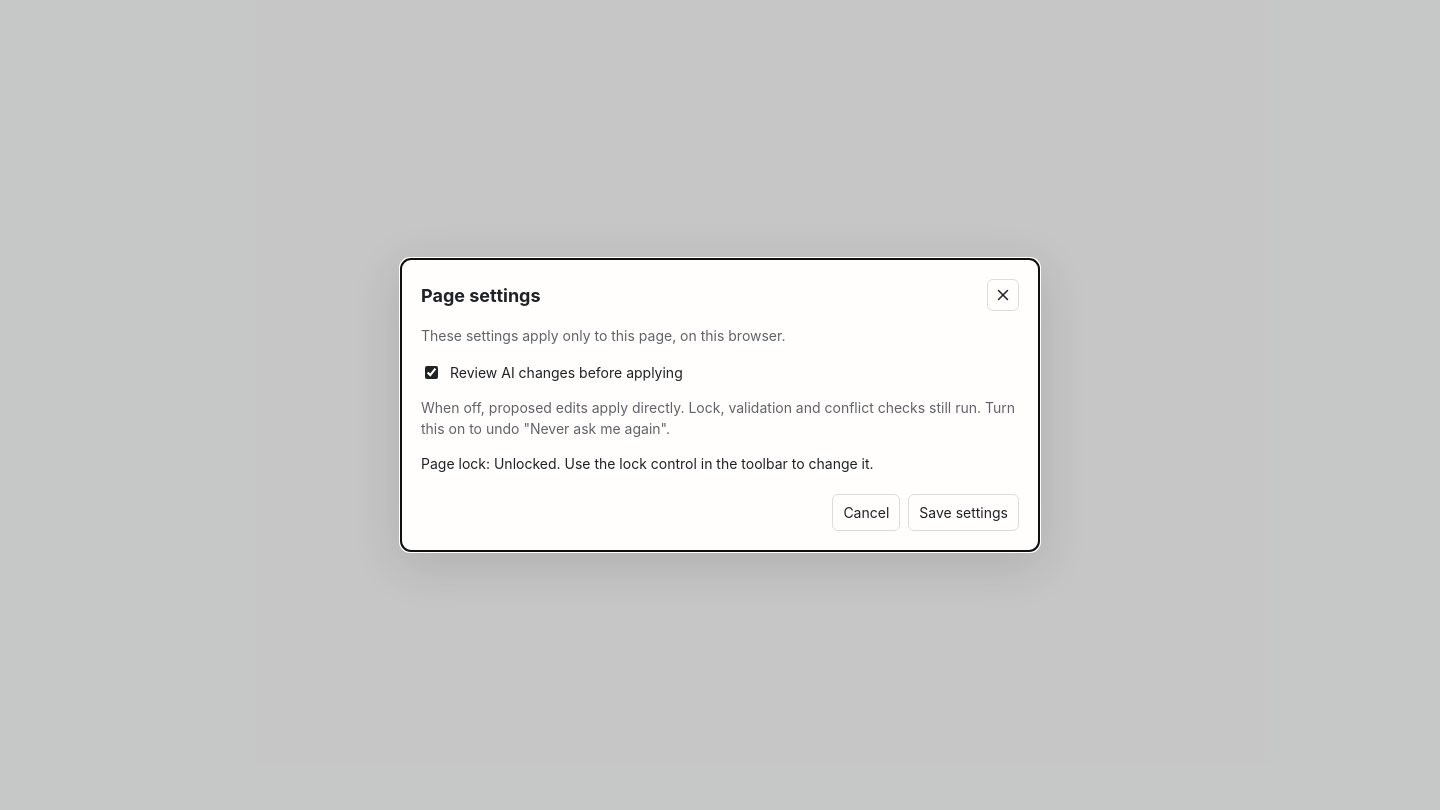
Page Settings modal › shows failed save and leaves modal open
Click the button "Save settings" at coordinates (964, 512), box left=908, top=494, right=1019, bottom=531
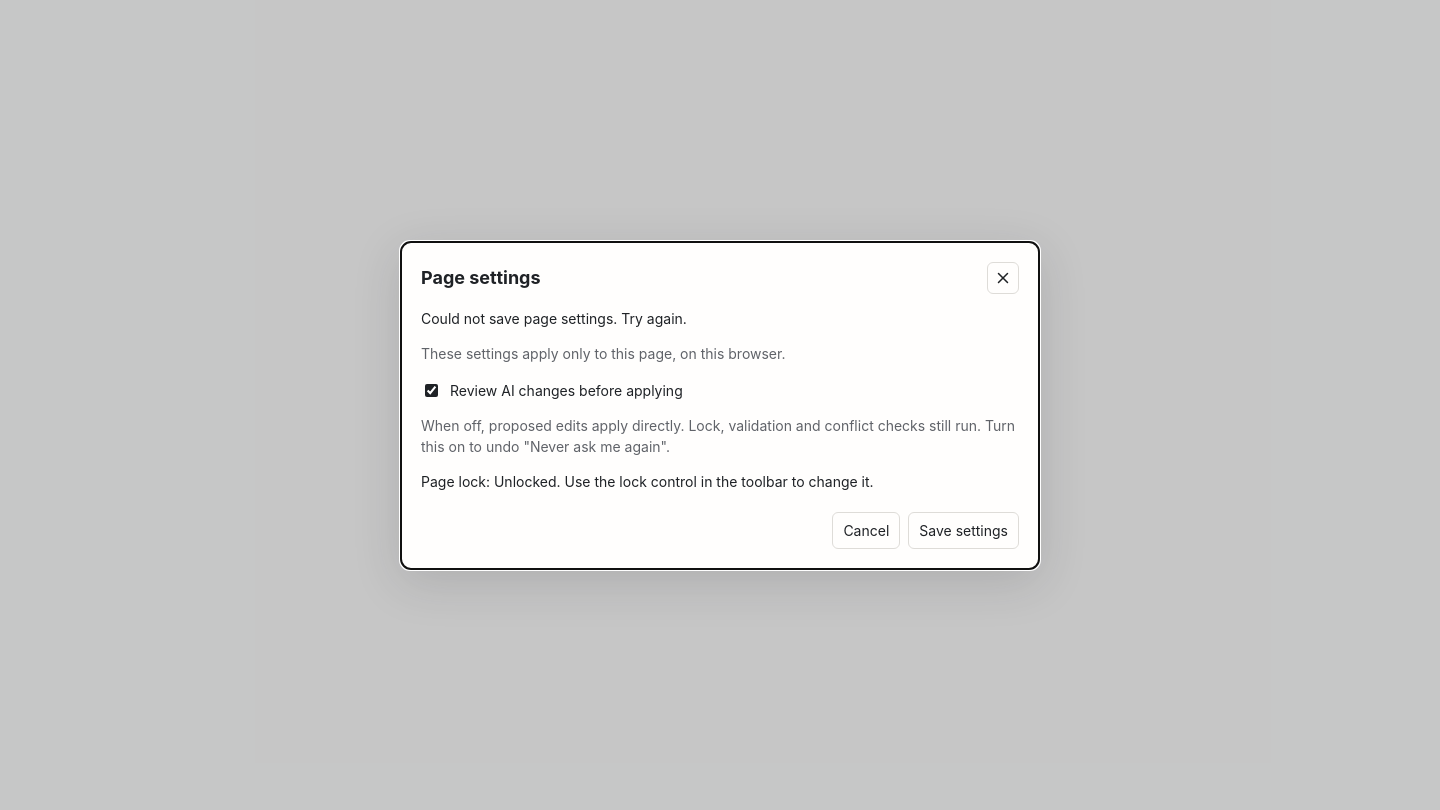
Check: the message "Could not save page settings. Try again." is shown, box left=421, top=310, right=687, bottom=326
